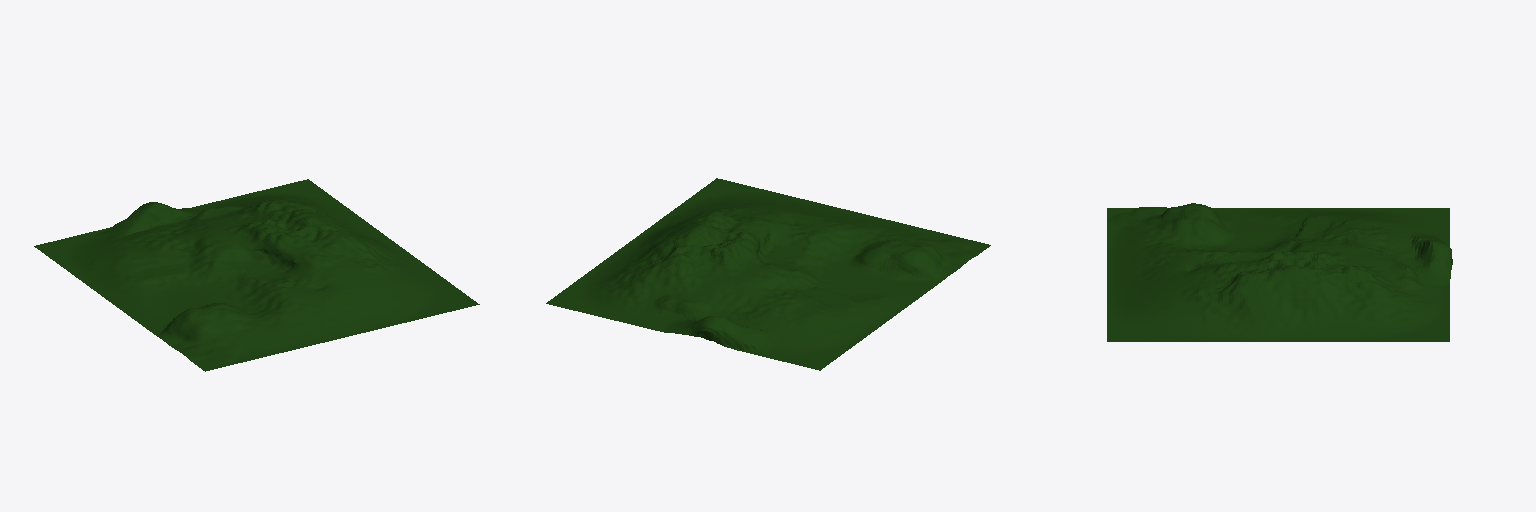
Rendered from Europe_Terrain.obj.
The picture shows the model from 3 angles: view 1: azimuth 30°, elevation 25°; view 2: azimuth 150°, elevation 25°; view 3: azimuth 270°, elevation 25°; orthographic projection.
Parts seen in each view (by area): view 1: Europe.001; view 2: Europe.001; view 3: Europe.001.
Boxes of the visible parts, x1=… form: Europe.001: x1=34, y1=179, x2=479, y2=371; Europe.001: x1=546, y1=178, x2=990, y2=370; Europe.001: x1=1107, y1=203, x2=1452, y2=341.
Size of the model in its own units: 185 by 24.33 by 202.